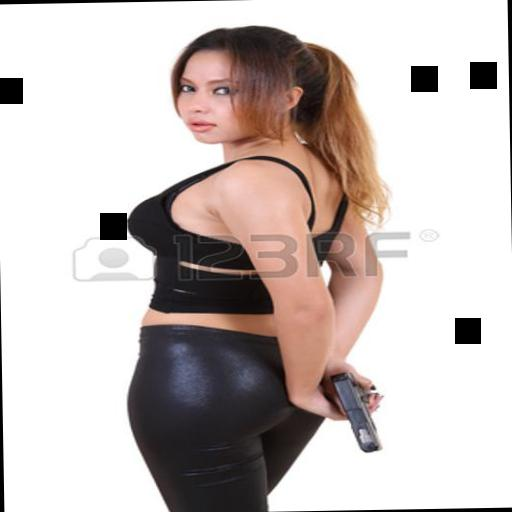Handgun: (326, 369, 380, 454)
